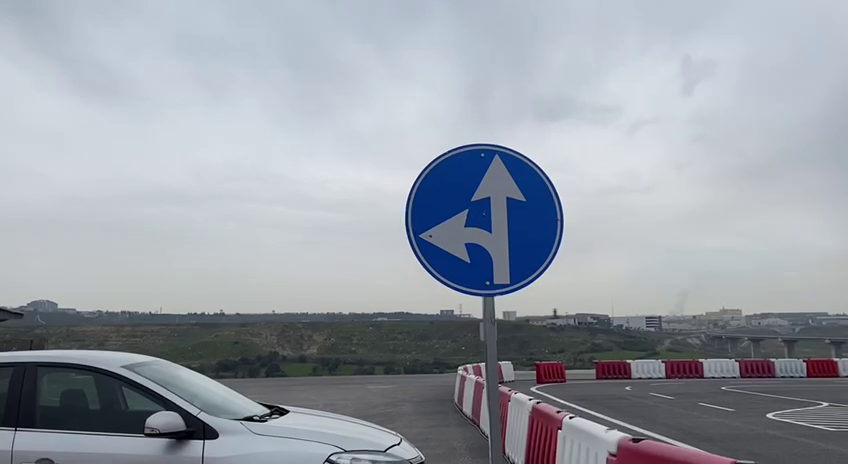forwardAndLeft: (397, 136, 568, 302)
